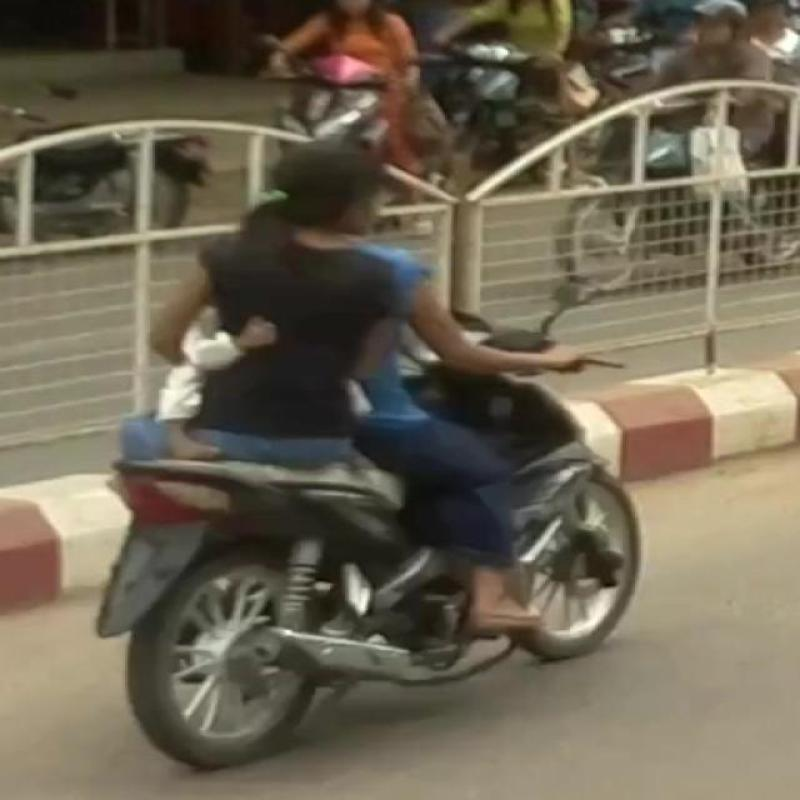nohelmet: (225, 110, 426, 244)
